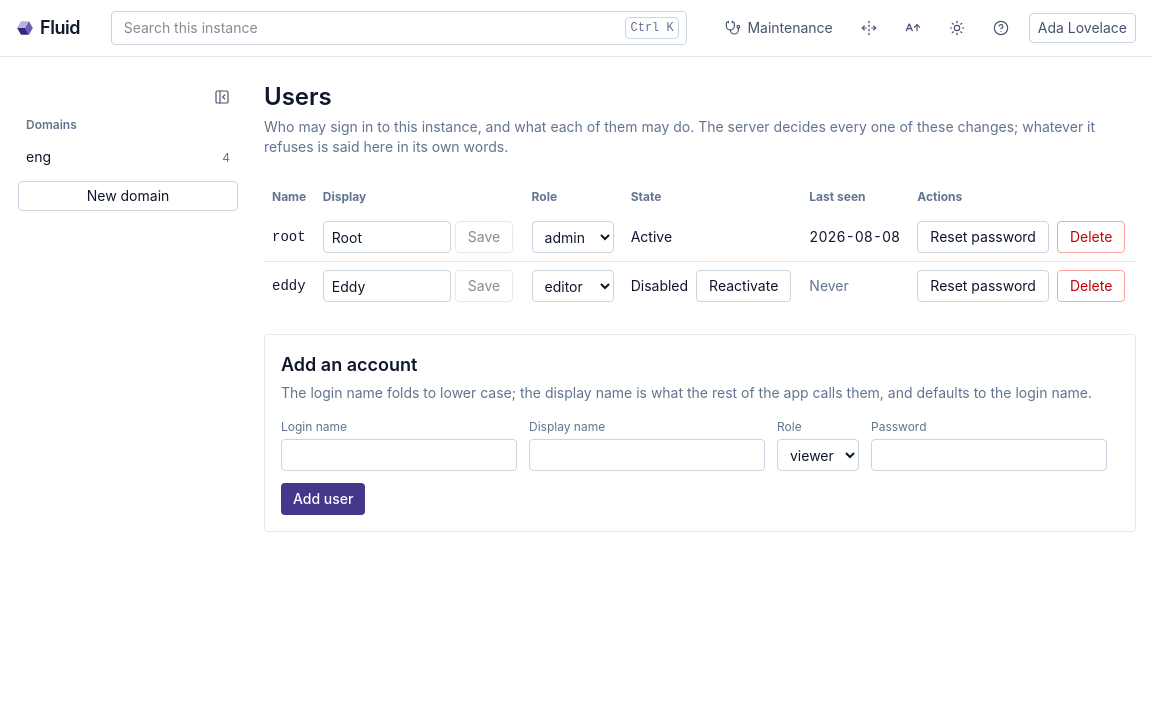
it: the user admin screen › replaces a password and says what that cost
Step 1. Click the button "Reset password" in the row of "eddy" → [983, 286], box [917, 270, 1049, 302]
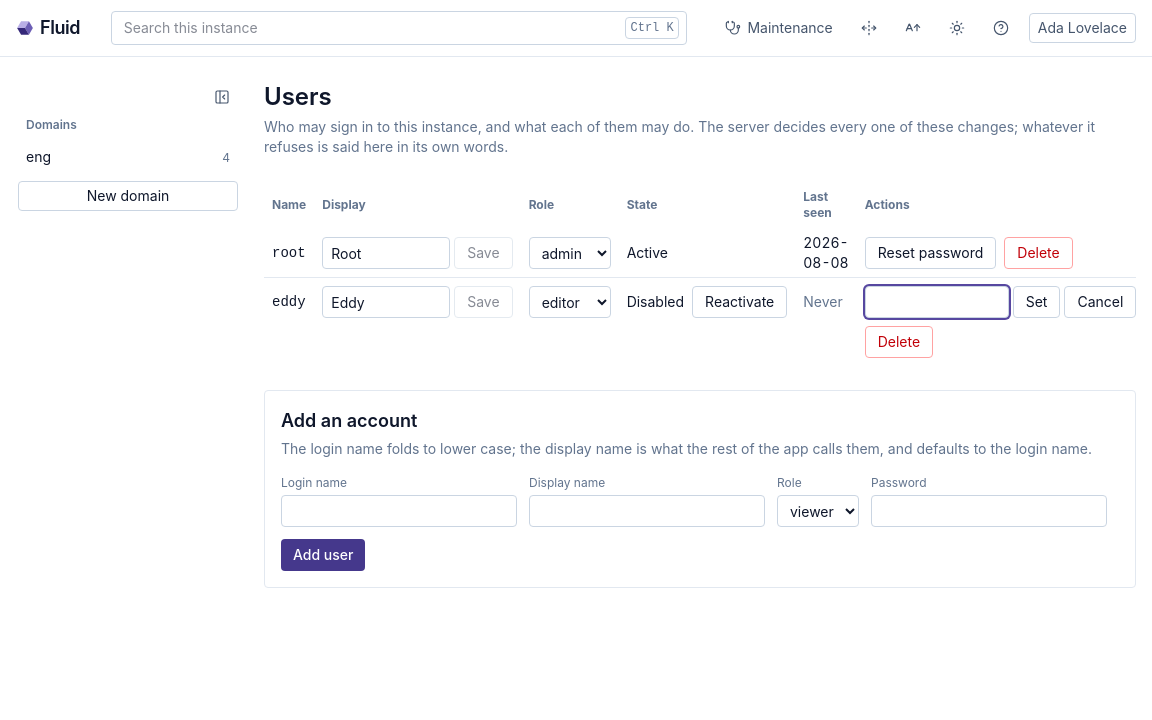
Step 2. Type "correct horse" into the password field named "new password for eddy" → [937, 302], box [865, 286, 1009, 318]
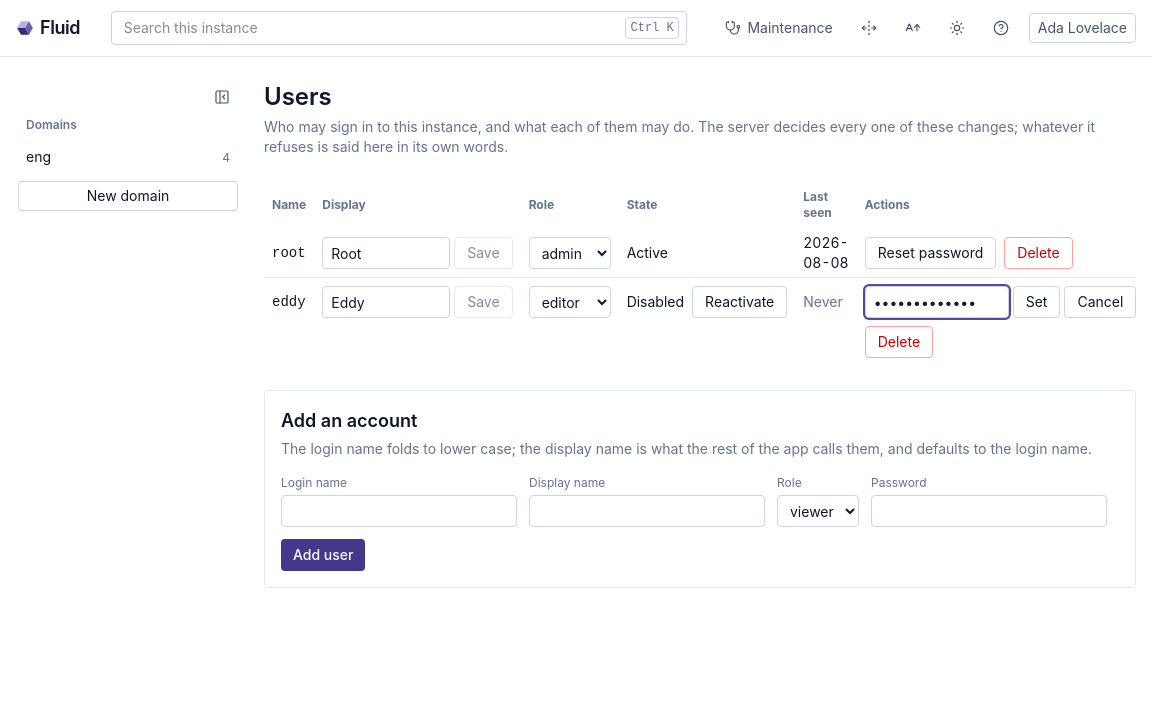
Step 3. Click the button with aria-label "set password for eddy" → [1037, 302], box [1013, 286, 1060, 318]
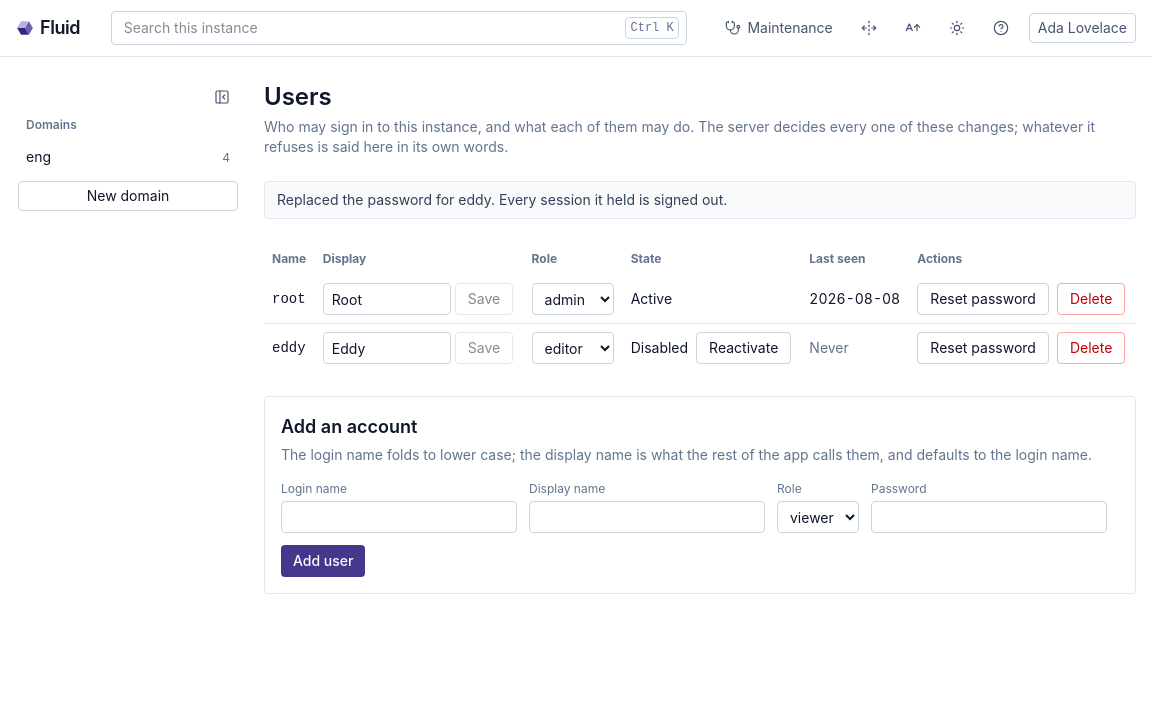
Result: the text "Replaced the password for eddy. Every session it held is signed out." is shown at [264, 181, 1136, 219]
